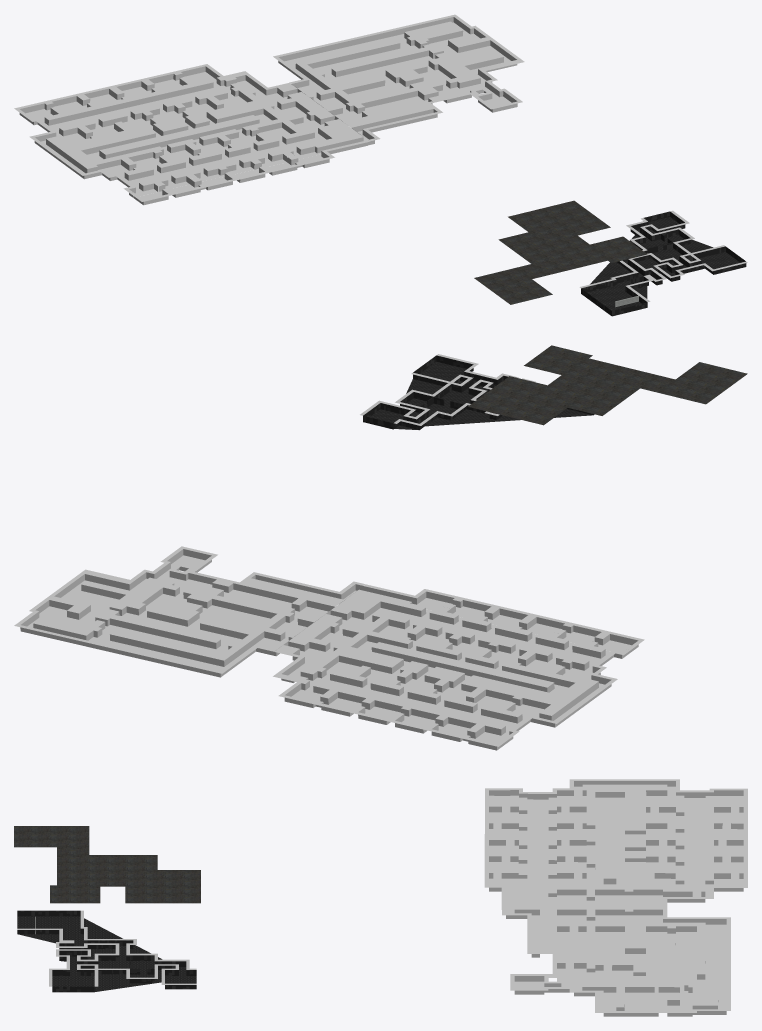
Rendered from protolvl4.fbx.
3 views of the same model, one above another, from view 1: azimuth 30°, elevation 25°; view 2: azimuth 150°, elevation 25°; view 3: azimuth 270°, elevation 25° (orthographic). The views are drawn at different scales.
Visible parts, largest first — view 1: Plane_002, Plane_001, Plane; view 2: Plane_002, Plane_001, Plane; view 3: Plane_002, Plane, Plane_001.
Boxes of the visible parts, <box> form: Plane_002: <box>14,14,524,205</box>; Plane_001: <box>474,200,647,304</box>; Plane: <box>579,210,747,316</box>; Plane_002: <box>14,546,644,750</box>; Plane_001: <box>468,345,747,425</box>; Plane: <box>360,354,594,430</box>; Plane_002: <box>484,779,747,1016</box>; Plane: <box>17,910,196,992</box>; Plane_001: <box>14,826,200,903</box>.
Bounding box in the file's own units: 600 × 53.58 × 818.
